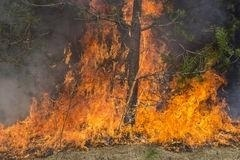fire: (22, 6, 232, 146)
